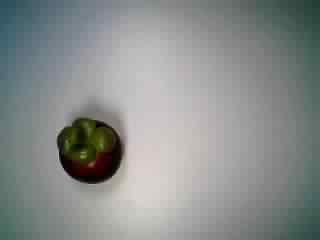mangosteen: (48, 113, 131, 188)
